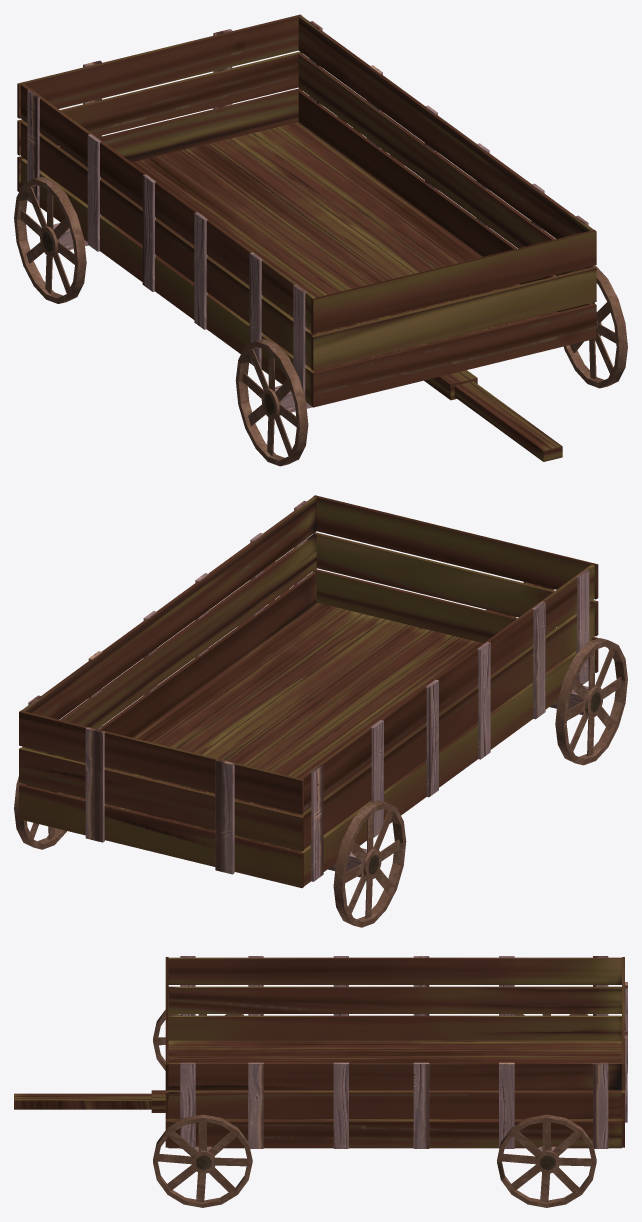
File: Wooden Wagon.fbx
3 renders of one model, top to bottom at view 1: azimuth 30°, elevation 25°; view 2: azimuth 150°, elevation 25°; view 3: azimuth 270°, elevation 25°, orthographic. The views are drawn at different scales.
Parts seen in each view (by area): view 1: Carro; view 2: Carro; view 3: Carro.
Part boxes in pixels (x1=…): Carro: x1=14, y1=14, x2=627, y2=466; Carro: x1=14, y1=495, x2=627, y2=927; Carro: x1=14, y1=956, x2=627, y2=1207.
Bounding box in the file's own units: 1.01 × 0.5137 × 2.11.
